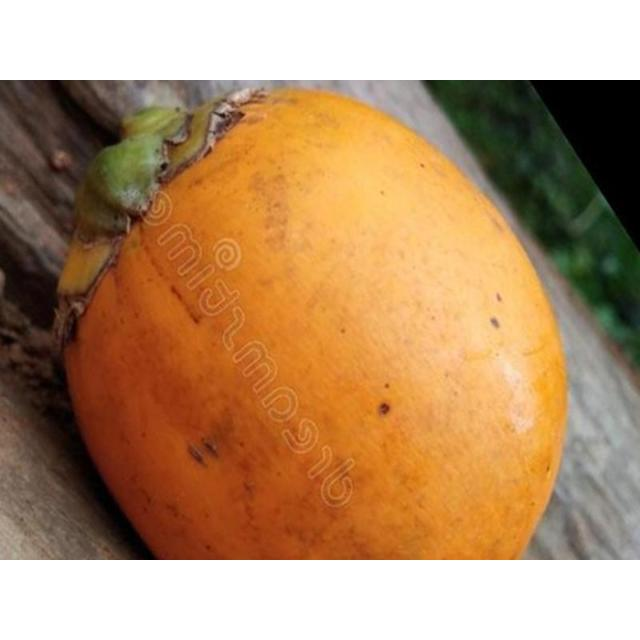good: (55, 88, 571, 559)
